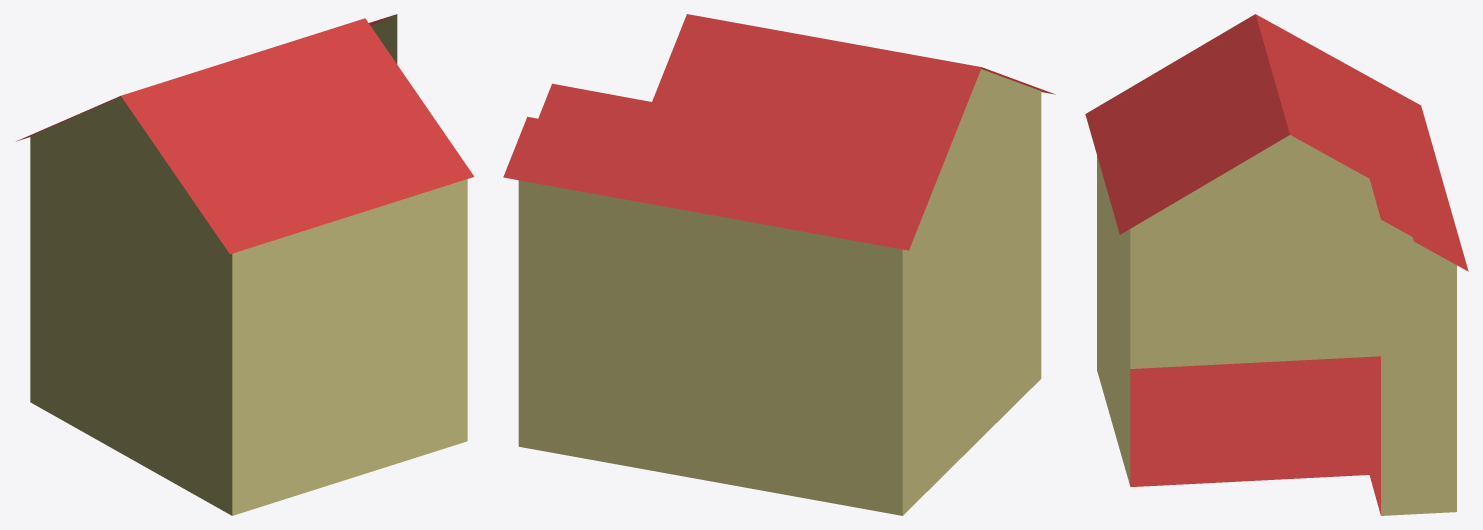
The picture shows the model from 3 angles, left to right: view 1: azimuth 30°, elevation 25°; view 2: azimuth 150°, elevation 25°; view 3: azimuth 270°, elevation 25°; orthographic projection. The views are drawn at different scales.
Bounding box in the file's own units: 9.42 × 9.03 × 8.94.
